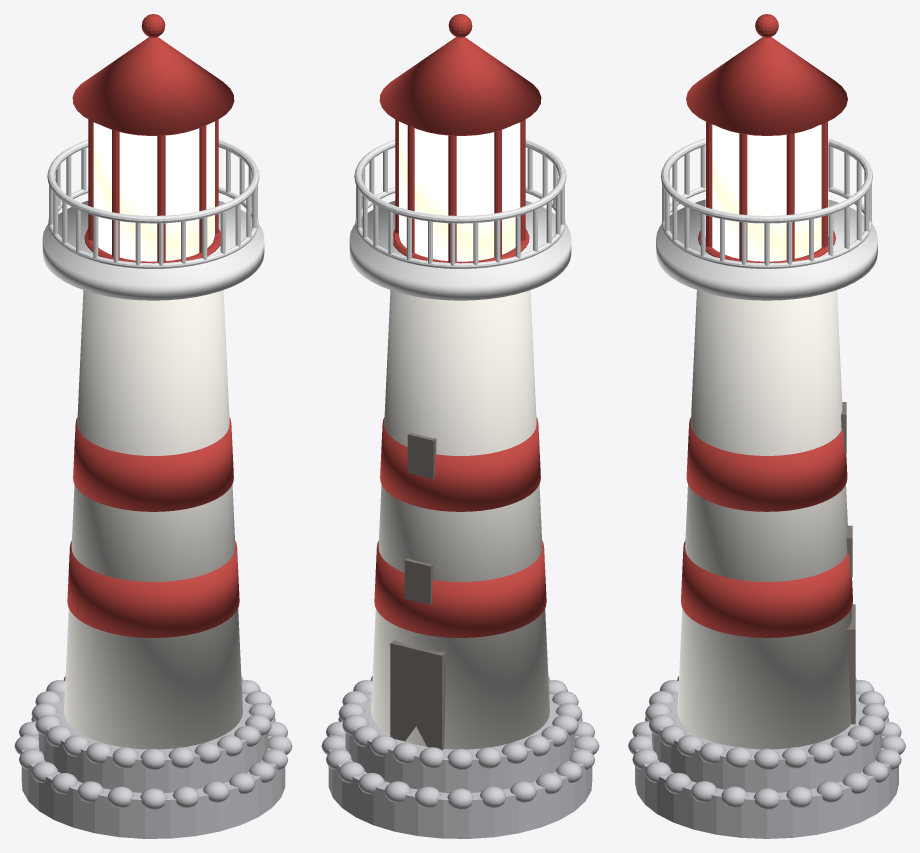
Rendered from mercu-blender-v1.glb.
The picture shows the model from 3 angles, left to right: view 1: azimuth 30°, elevation 25°; view 2: azimuth 150°, elevation 25°; view 3: azimuth 270°, elevation 25°; orthographic projection.
Visible parts, largest first — view 1: Mercu; view 2: Mercu; view 3: Mercu.
Boxes of the visible parts, bbox=[...] form: Mercu: bbox=[14, 14, 292, 838]; Mercu: bbox=[321, 14, 599, 838]; Mercu: bbox=[628, 14, 905, 838].
Bounding box in the file's own units: 3.26 × 9.94 × 3.26.
